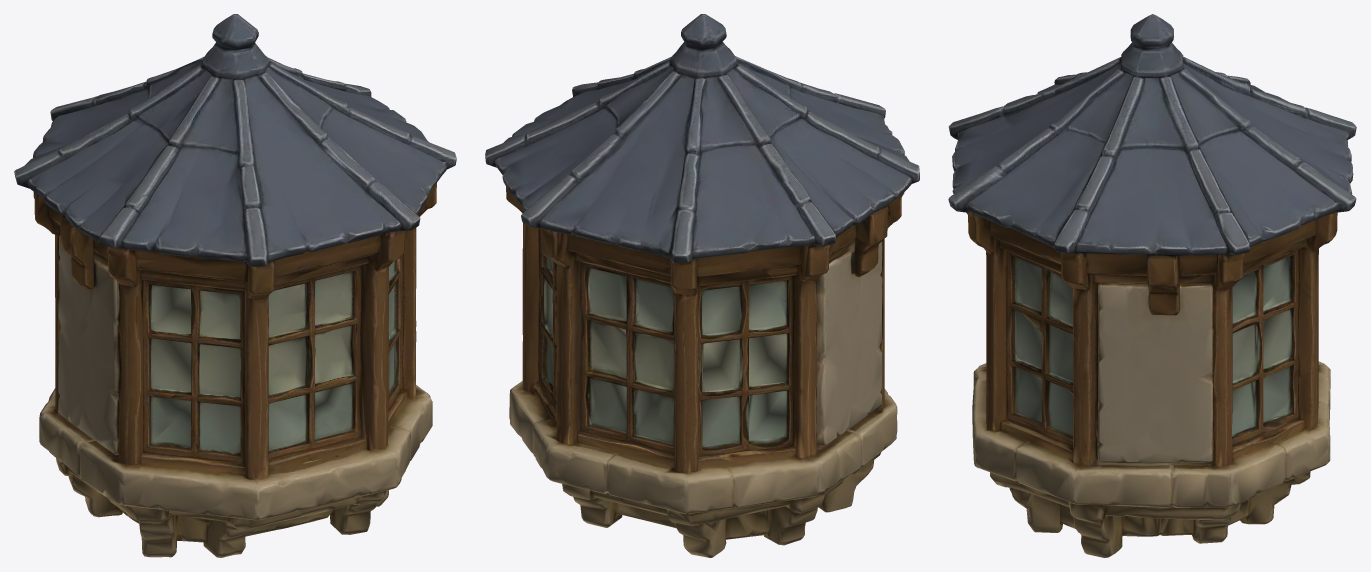
File: mod_win_e.glb
3 views of the same model, side by side, from view 1: azimuth 30°, elevation 25°; view 2: azimuth 150°, elevation 25°; view 3: azimuth 270°, elevation 25° (orthographic).
Visible parts, largest first — view 1: tripo_node_c0840939-7698-43bf-a336-989150b51773; view 2: tripo_node_c0840939-7698-43bf-a336-989150b51773; view 3: tripo_node_c0840939-7698-43bf-a336-989150b51773.
Boxes of the visible parts, bbox=[...] form: tripo_node_c0840939-7698-43bf-a336-989150b51773: bbox=[14, 14, 456, 557]; tripo_node_c0840939-7698-43bf-a336-989150b51773: bbox=[485, 14, 919, 557]; tripo_node_c0840939-7698-43bf-a336-989150b51773: bbox=[948, 14, 1356, 557].
Bounding box in the file's own units: 0.7369 × 0.9792 × 0.7463.
Materials: 1 (1 with a texture image).
